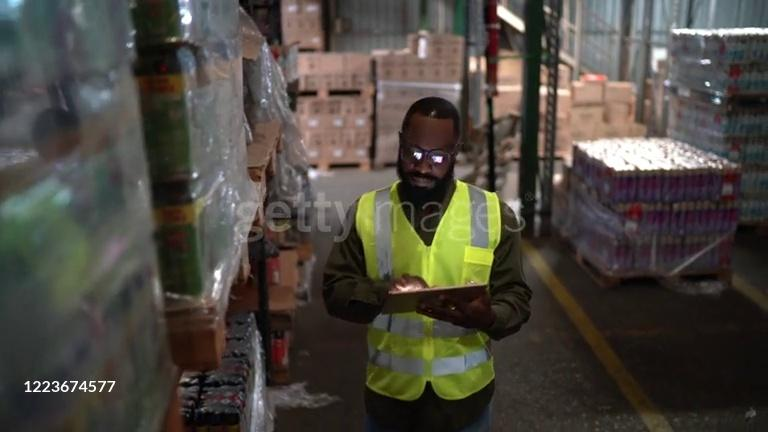person: (319, 97, 535, 432)
